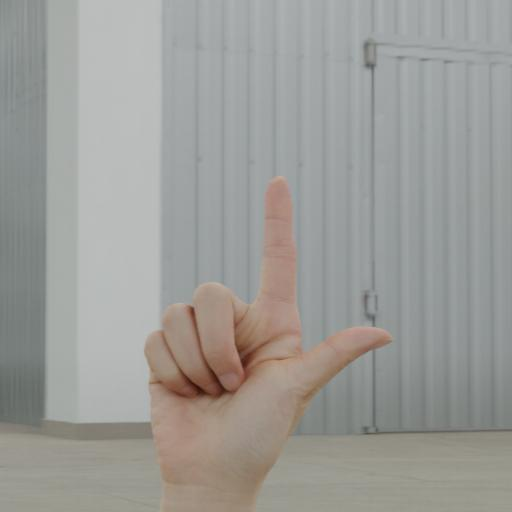L: (144, 176, 394, 502)
